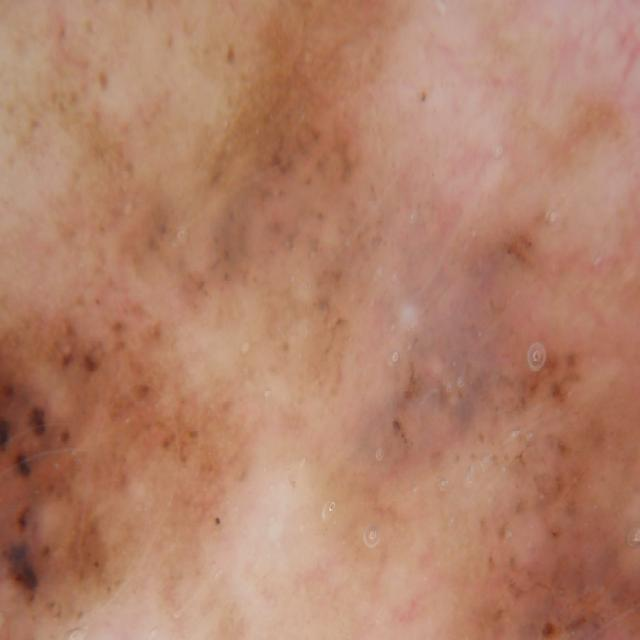Melanoma: (0, 39, 640, 640)
